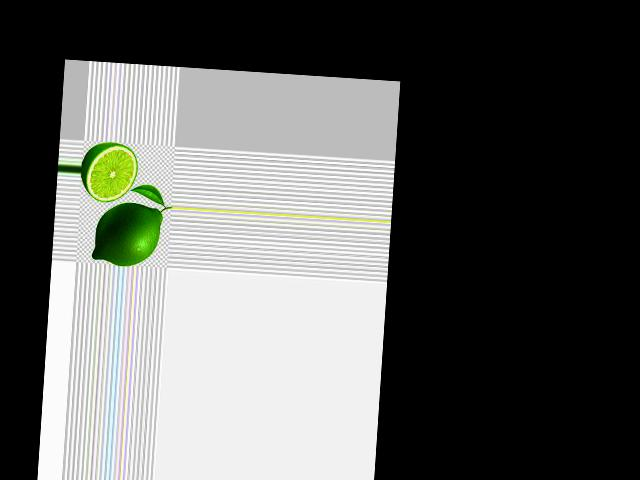lemon: (87, 196, 166, 268)
